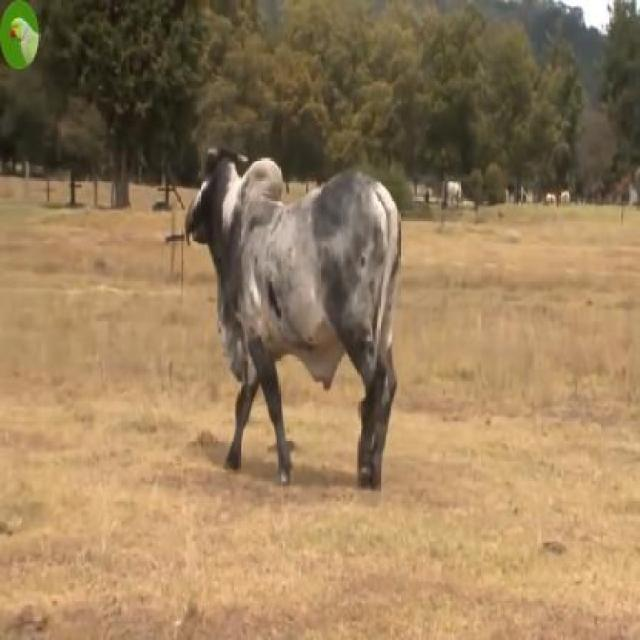Cow: (188, 155, 400, 491)
